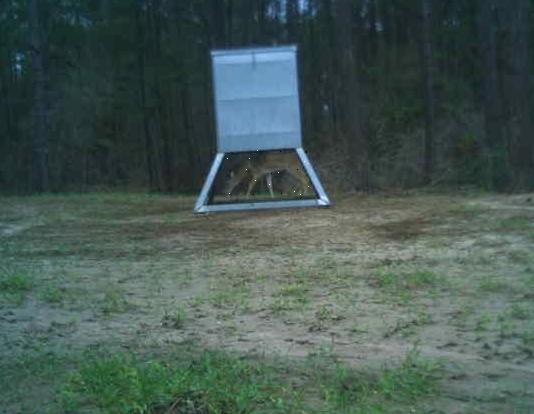Deer: (223, 149, 311, 199)
